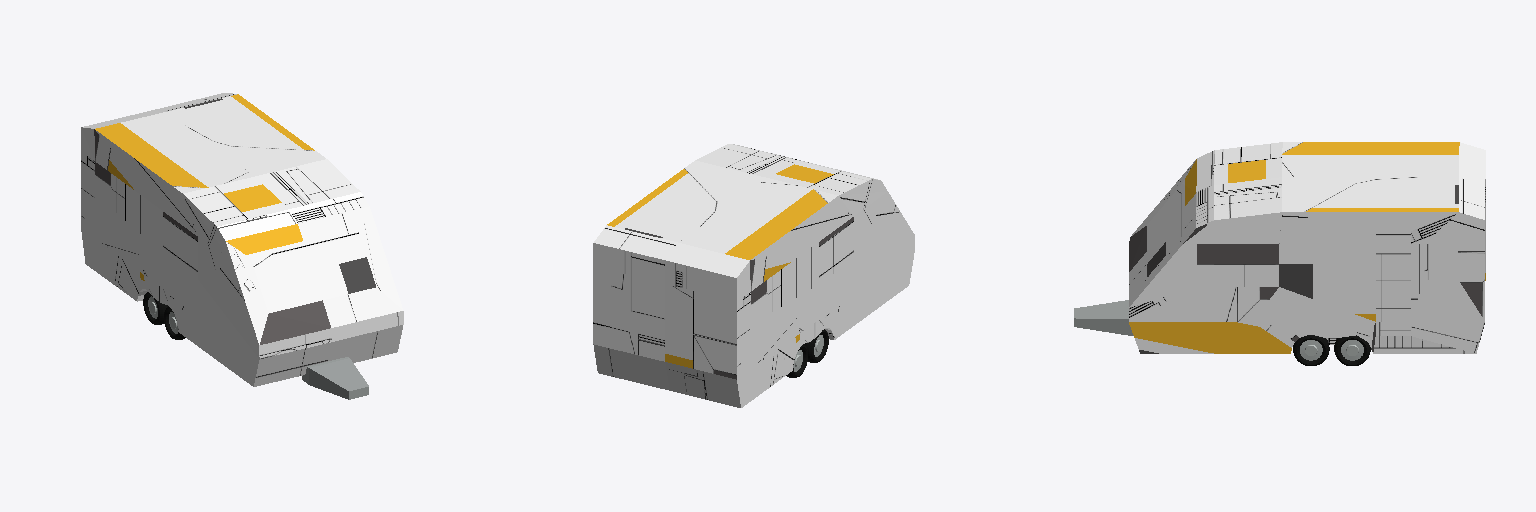
3 renders of one model, left to right at view 1: azimuth 30°, elevation 25°; view 2: azimuth 150°, elevation 25°; view 3: azimuth 270°, elevation 25°, orthographic.
Parts seen in each view (by area): view 1: Caravan_body_Cube, Connector_Cube.001; view 2: Caravan_body_Cube; view 3: Caravan_body_Cube, Connector_Cube.001, Wheel_Torus, Wheel_2_Torus.001.
Part boxes in pixels (x1,y1,x2,y2): Caravan_body_Cube: (81, 93, 403, 386); Connector_Cube.001: (302, 357, 368, 399); Caravan_body_Cube: (593, 144, 914, 407); Caravan_body_Cube: (1129, 142, 1485, 353); Connector_Cube.001: (1074, 300, 1133, 335); Wheel_Torus: (1293, 335, 1329, 365); Wheel_2_Torus.001: (1334, 335, 1370, 365).
Bounding box in the file's own units: 5.63 × 5.9 × 13.98.
Materials: 5 (4 with a texture image).